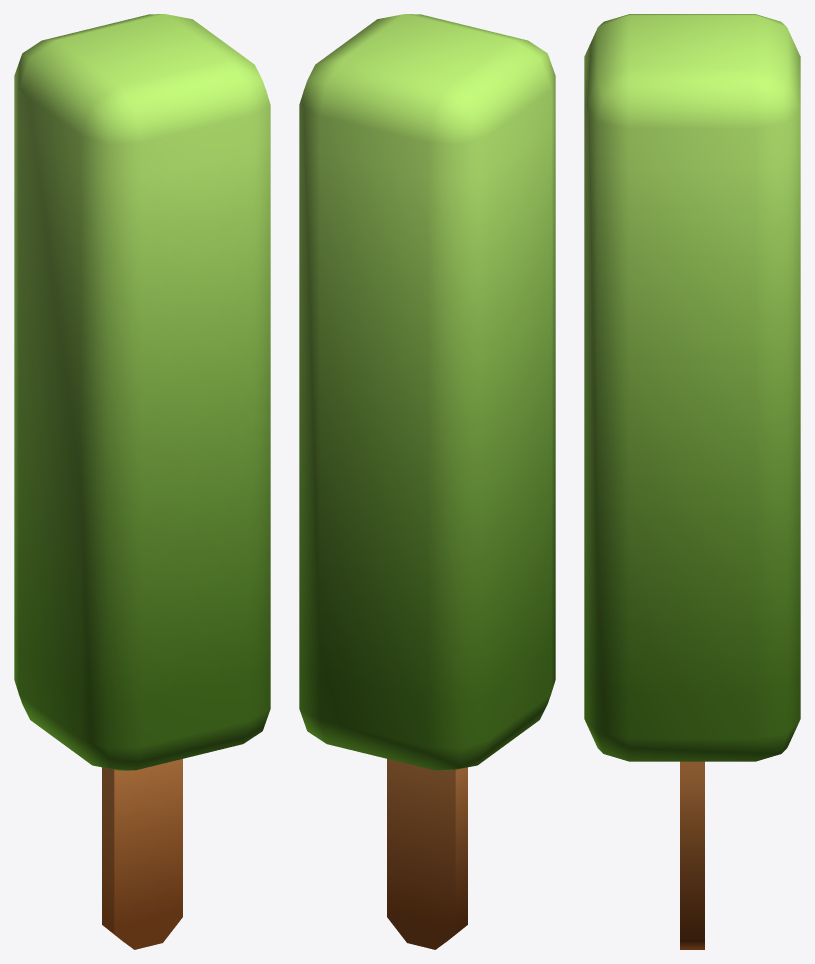
Rendered from m_SquarePopsicle05.fbx.
The picture shows the model from 3 angles, left to right: view 1: azimuth 30°, elevation 25°; view 2: azimuth 150°, elevation 25°; view 3: azimuth 270°, elevation 25°; orthographic projection.
Parts seen in each view (by area): view 1: m_SquarePopsicle05; view 2: m_SquarePopsicle05; view 3: m_SquarePopsicle05.
Boxes of the visible parts, <box> form: m_SquarePopsicle05: <box>14,14,270,949</box>; m_SquarePopsicle05: <box>299,14,555,949</box>; m_SquarePopsicle05: <box>584,14,800,949</box>.
Size of the model in its own units: 5 by 23.01 by 5.
